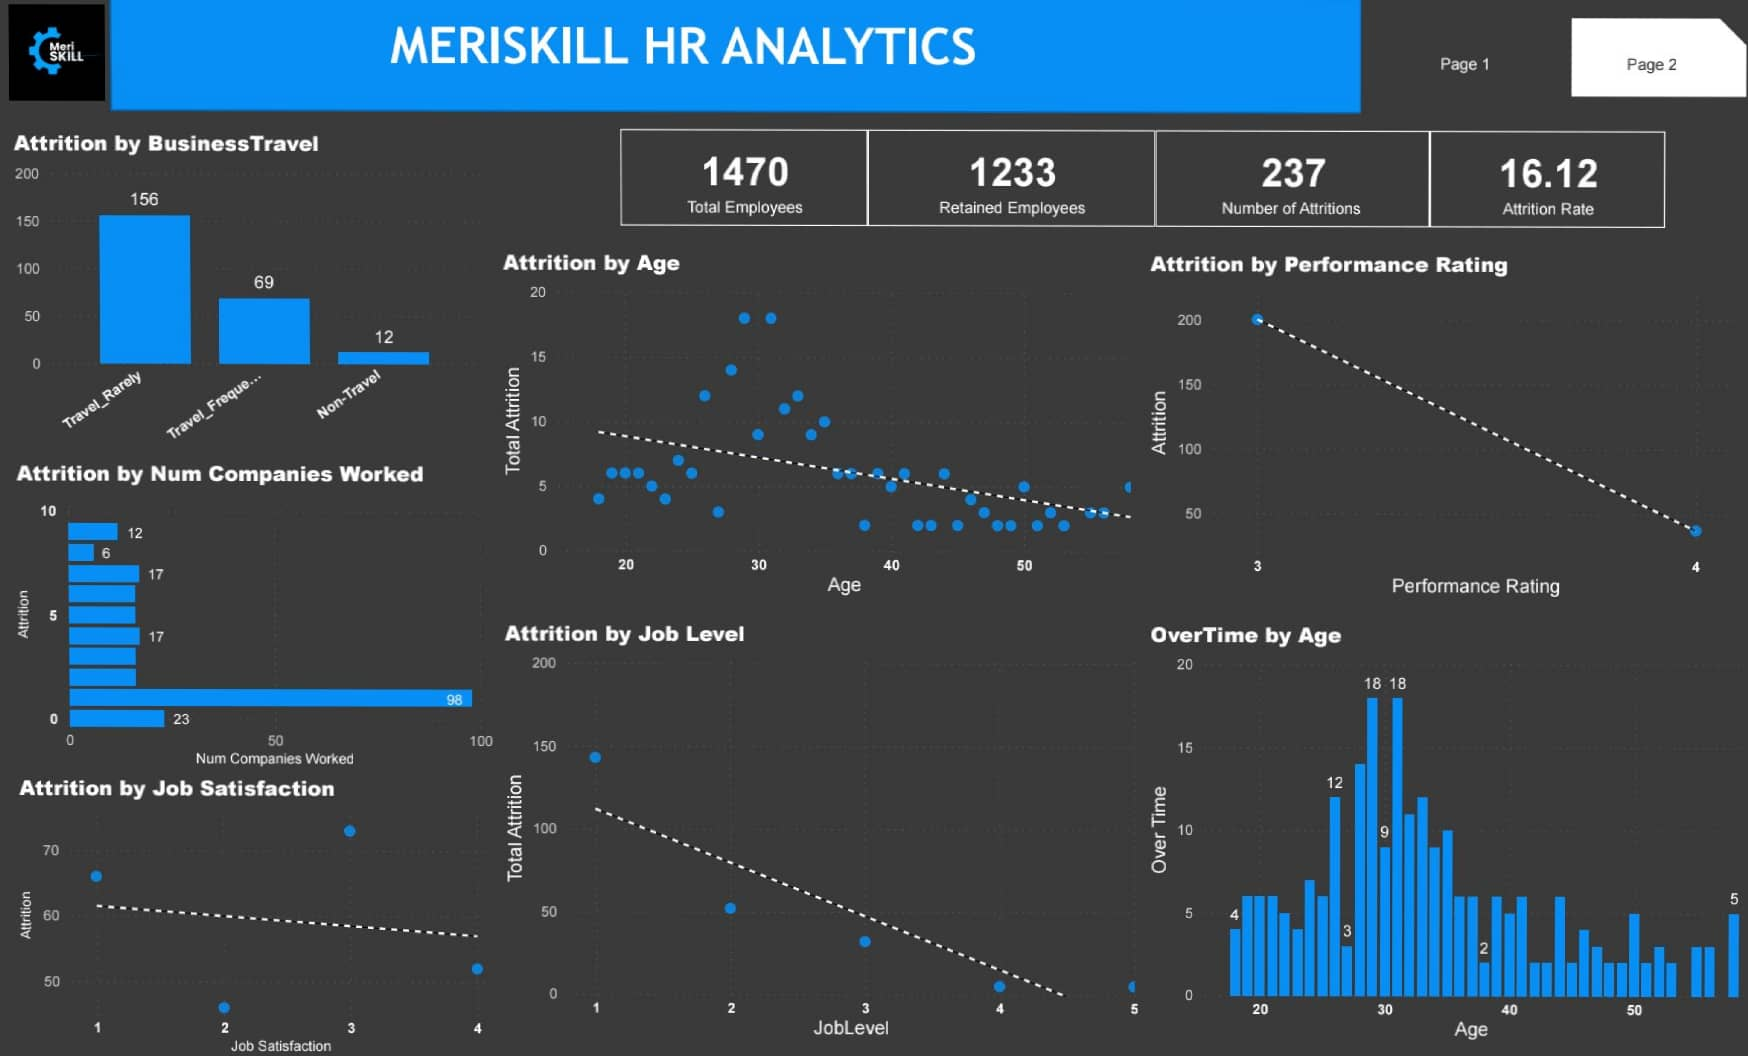

The page's visual inventory and layout, read from the dashboard file:
{"tool":"powerbi","page":{"name":"Page 2","canvas":[1480,900],"ordinal":1},"visuals":[{"type":"group","id":"g1","title":"Group 2","box":[528.2,111.2,879.8,80.1],"z":0},{"type":"card","fields":{"Values":["HR_Employee_Table.Total Number of Employees"]},"box":[528.2,111.2,207.6,80.8],"z":1000,"group":"g1"},{"type":"scatterChart","title":"Attrition by Age","fields":{"X":["HR_Employee_Table.Age"],"Y":["HR_Employee_Table.Total Attrition"]},"box":[424,209.5,544.5,298.6],"z":1000},{"type":"shape","title":"MERI","box":[100.2,0,1051.1,96.5],"z":2000,"group":"g2"},{"type":"scatterChart","title":"Attrition by Performance Rating","fields":{"Y":["HR_Employee_Table.Total Attrition"],"X":["HR_Employee_Table.PerformanceRating"]},"box":[968.5,209.5,511.5,298.6],"z":2000},{"type":"image","box":[9.8,0,90.4,96.5],"z":3000,"group":"g2"},{"type":"barChart","title":"Attrition by Num Companies Worked","fields":{"Category":["HR_Employee_Table.NumCompaniesWorked"],"Y":["HR_Employee_Table.Total Attrition"]},"box":[13.2,389.4,410.8,265.6],"z":3000},{"type":"textbox","box":[282.9,0,596.9,96.5],"z":4000,"group":"g2"},{"type":"scatterChart","title":"Attrition by Job Level","fields":{"Y":["HR_Employee_Table.Total Attrition"],"X":["HR_Employee_Table.JobLevel"]},"box":[424,523,544.5,361.3],"z":4000},{"type":"columnChart","title":"Attrition by BusinessTravel","fields":{"Category":["HR_Employee_Table.BusinessTravel"],"Y":["HR_Employee_Table.Total Attrition"]},"box":[13.2,110.5,402.6,278.8],"z":5000},{"type":"card","fields":{"Values":["Count(HR_Employee_Table.EmployeeNumber)"]},"box":[978.4,111.2,230.9,80.8],"z":5000,"group":"g1"},{"type":"group","id":"g2","title":"Group 1","box":[9.8,0,1141.5,96.5],"z":6000,"group":"g3"},{"type":"card","fields":{"Values":["HR_Employee_Table.Attrition Rate"]},"box":[1209.3,111.2,198.3,80.8],"z":6000,"group":"g1"},{"type":"scatterChart","title":"Attrition by Job Satisfaction ","fields":{"Y":["HR_Employee_Table.Total Attrition"],"X":["HR_Employee_Table.JobSatisfaction"]},"box":[13.2,655,410.8,244.2],"z":6000},{"type":"card","fields":{"Values":["Count(HR_Employee_Table.EmployeeNumber)"]},"box":[735.8,111.2,242.6,80.8],"z":7000,"group":"g1"},{"type":"columnChart","title":"OverTime by Age","fields":{"Category":["HR_Employee_Table.Age"],"Y":["CountNonNull(HR_Employee_Table.OverTime)"]},"box":[968.5,523,511.5,361.3],"z":7000},{"type":"pageNavigator","box":[1170.9,16.4,304.2,65.4],"z":7001,"group":"g3"},{"type":"group","id":"g3","title":"Group 3","box":[9.8,0,1465.3,96.5],"z":8000}]}

Visuals, with their boxes in screenshot pixels (x1, y1, x2, y2), scaled from the page's 1480x900 canvas onto the 1748x1056 screenshot:
"Group 2" group: <box>624,130,1663,224</box>
card - HR_Employee_Table.Total Number of Employees: <box>624,130,869,225</box>
"Attrition by Age" scatterChart: <box>501,246,1144,596</box>
"MERI" shape: <box>118,0,1360,113</box>
"Attrition by Performance Rating" scatterChart: <box>1144,246,1747,596</box>
image: <box>12,0,118,113</box>
"Attrition by Num Companies Worked" barChart: <box>16,457,501,769</box>
textbox: <box>334,0,1039,113</box>
"Attrition by Job Level" scatterChart: <box>501,614,1144,1038</box>
"Attrition by BusinessTravel" columnChart: <box>16,130,491,457</box>
card - Count(HR_Employee_Table.EmployeeNumber): <box>1156,130,1428,225</box>
"Group 1" group: <box>12,0,1360,113</box>
card - HR_Employee_Table.Attrition Rate: <box>1428,130,1662,225</box>
"Attrition by Job Satisfaction " scatterChart: <box>16,769,501,1055</box>
card - Count(HR_Employee_Table.EmployeeNumber): <box>869,130,1156,225</box>
"OverTime by Age" columnChart: <box>1144,614,1747,1038</box>
pageNavigator: <box>1383,19,1742,96</box>
"Group 3" group: <box>12,0,1742,113</box>
